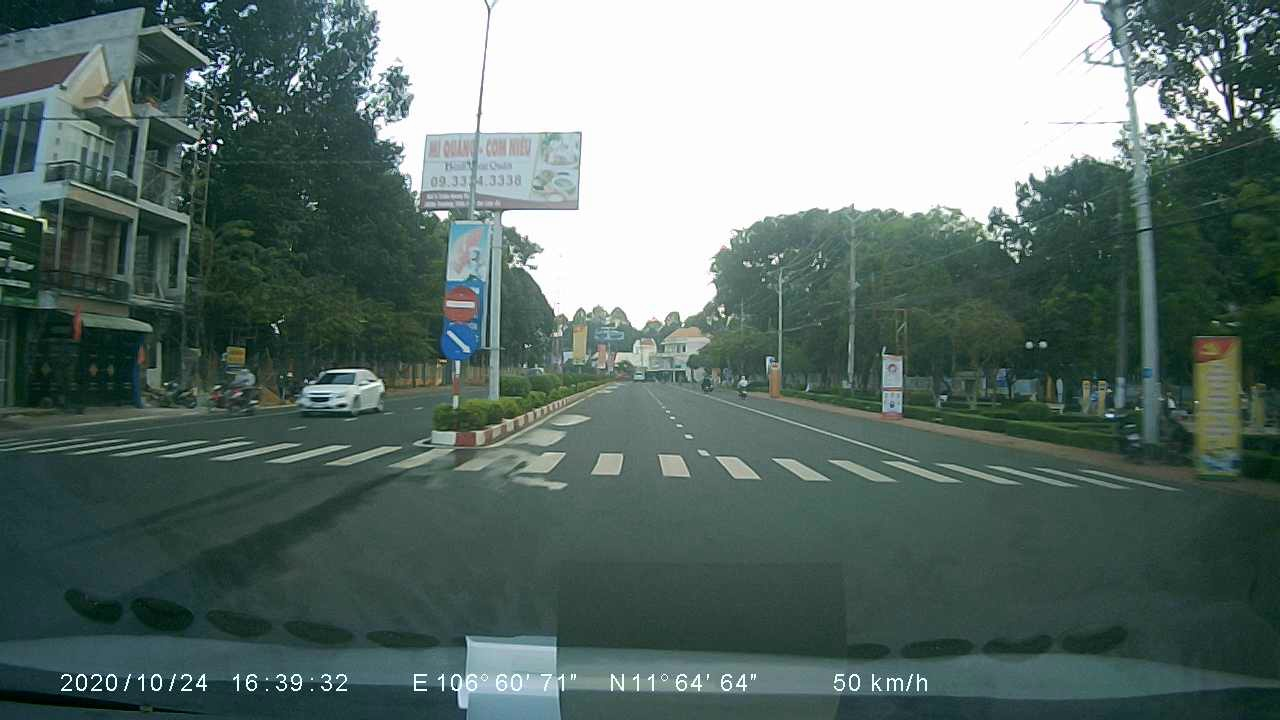Cam di nguoc chieu: (436, 286, 480, 321)
Huong di phai re phai: (435, 321, 479, 362)
